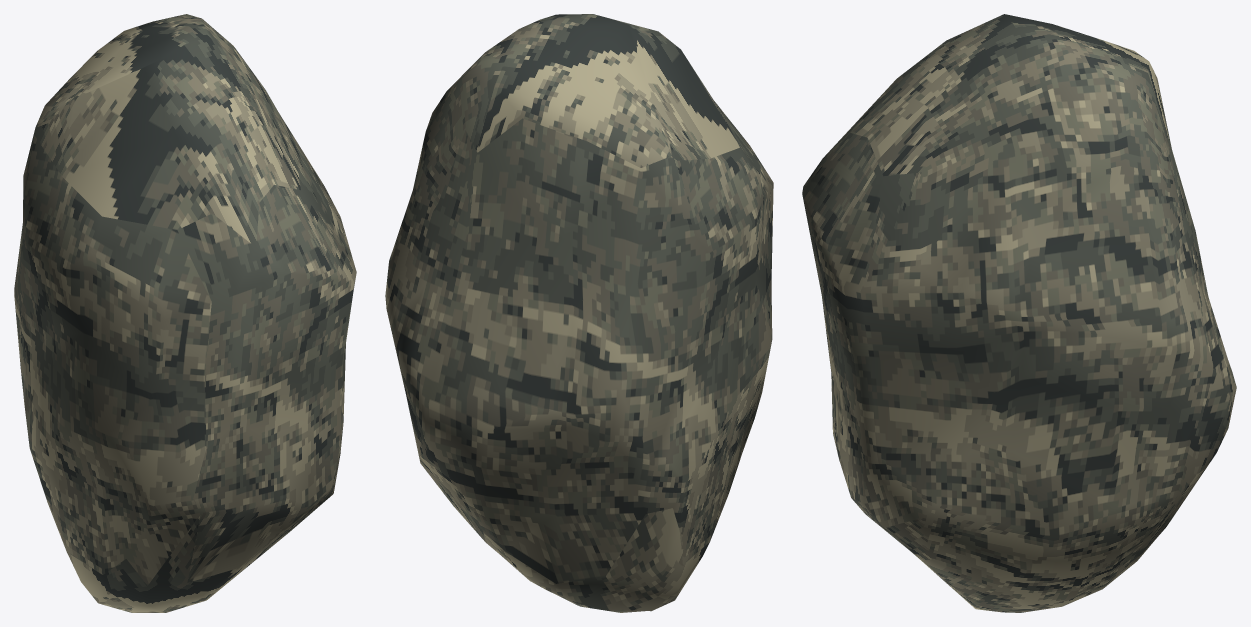
The model's file is rockLarge01.fbx.
The picture shows the model from 3 angles, left to right: view 1: azimuth 30°, elevation 25°; view 2: azimuth 150°, elevation 25°; view 3: azimuth 270°, elevation 25°; orthographic projection. The views are drawn at different scales.
Visible parts, largest first — view 1: RockLarge1; view 2: RockLarge1; view 3: RockLarge1.
Part boxes in pixels (x1,y1,x2,y2): RockLarge1: [14, 14, 356, 612]; RockLarge1: [385, 14, 773, 612]; RockLarge1: [802, 14, 1236, 612].
Size of the model in its own units: 48.24 by 89.87 by 59.17.
